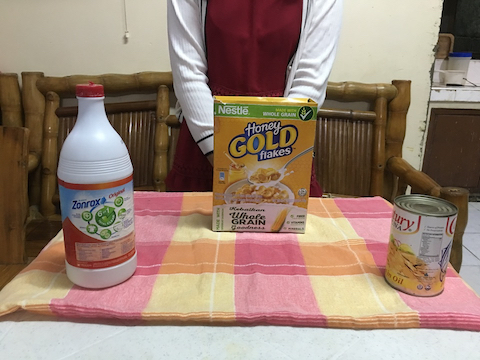bottle: (53, 75, 148, 290)
box: (209, 89, 322, 233)
can: (380, 192, 463, 299)
